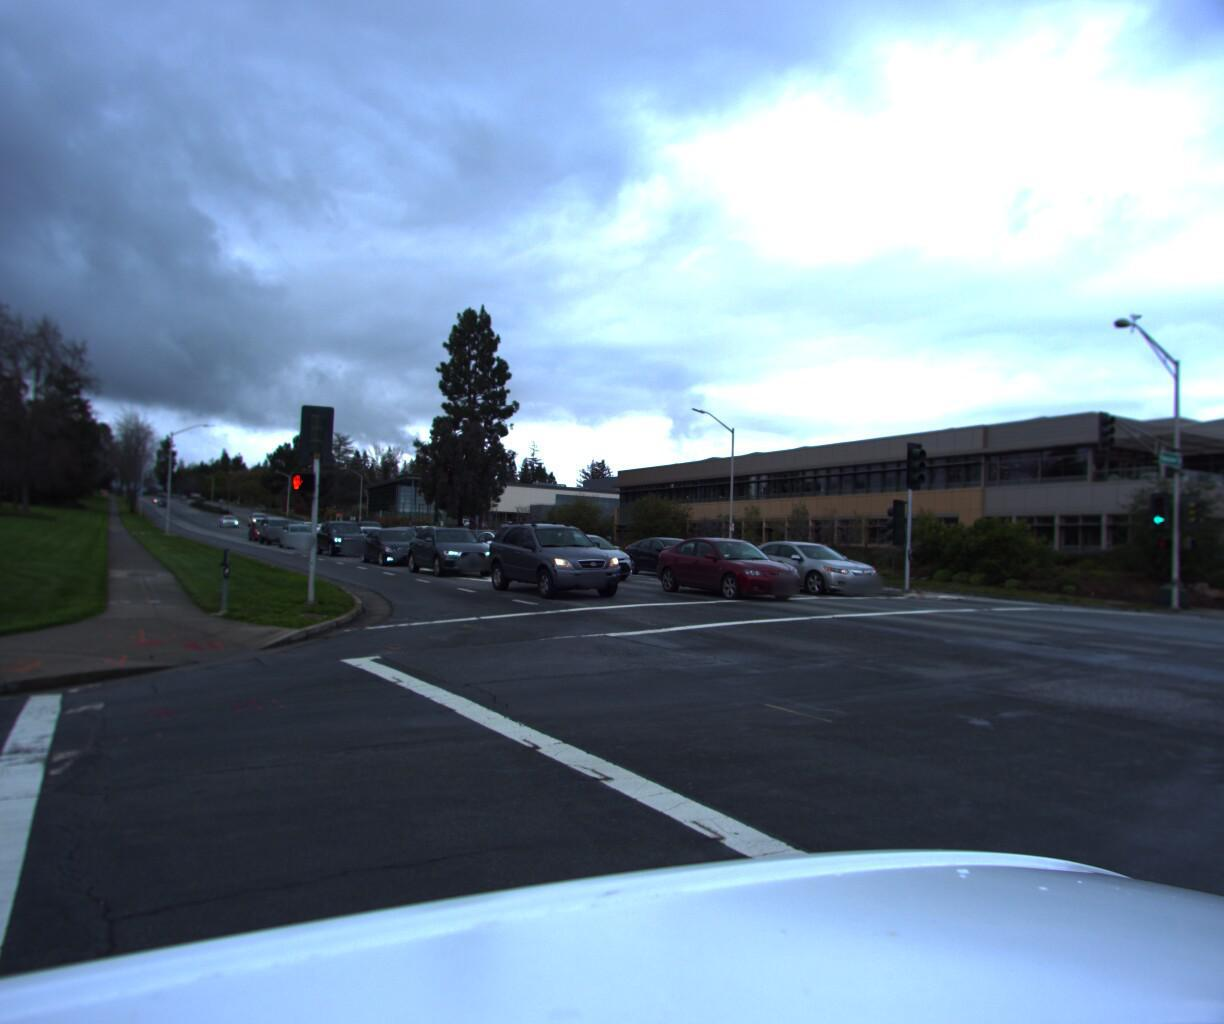car: (477, 521, 633, 605), (646, 539, 820, 611), (723, 543, 895, 607), (529, 534, 650, 589), (400, 526, 506, 583), (615, 540, 736, 587), (463, 532, 556, 578), (355, 533, 437, 574), (311, 524, 380, 564), (410, 530, 467, 560), (349, 528, 405, 557), (257, 521, 306, 553), (276, 529, 327, 556)
